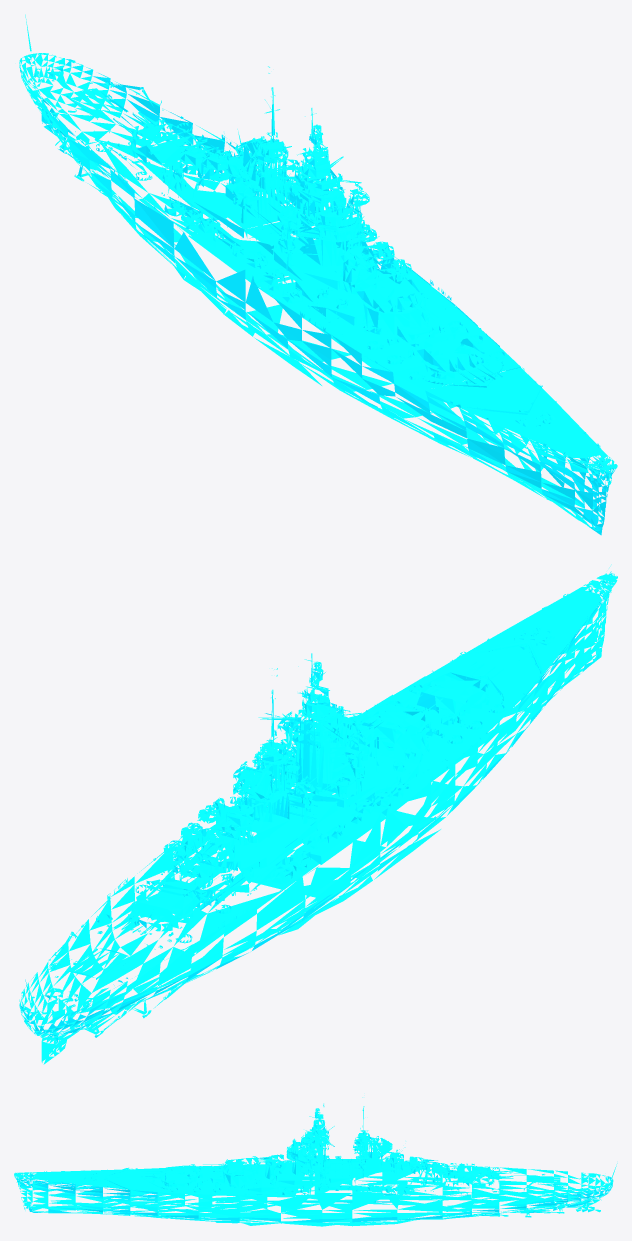
The model's file is PFSB109.glb.
3 renders of one model, top to bottom at view 1: azimuth 30°, elevation 25°; view 2: azimuth 150°, elevation 25°; view 3: azimuth 270°, elevation 25°, orthographic. The views are drawn at different scales.
Visible parts, largest first — view 1: hull_mid, hull_bow, hull_stern, main_battery, secondary_battery, hull_body, aa_mount; view 2: hull_mid, hull_bow, hull_stern, main_battery, secondary_battery, hull_body, aa_mount; view 3: hull_mid, hull_bow, hull_stern, main_battery, secondary_battery, hull_body, aa_mount.
Part boxes in pixels (box(x1,y1,x2,y2)): hull_mid: box(88, 91, 520, 445); hull_bow: box(425, 360, 617, 535); hull_stern: box(19, 14, 192, 198); main_battery: box(113, 111, 502, 384); secondary_battery: box(164, 141, 412, 303); hull_body: box(225, 139, 369, 250); aa_mount: box(169, 166, 416, 309); hull_mid: box(90, 653, 520, 999); hull_bow: box(426, 564, 617, 754); hull_stern: box(19, 919, 192, 1064); main_battery: box(113, 662, 503, 934); secondary_battery: box(163, 717, 411, 884); hull_body: box(226, 684, 369, 827); aa_mount: box(172, 746, 416, 885); hull_mid: box(157, 1103, 511, 1226); hull_bow: box(14, 1167, 167, 1217); hull_stern: box(499, 1163, 617, 1217); main_battery: box(141, 1156, 513, 1183); secondary_battery: box(255, 1154, 456, 1195); hull_body: box(305, 1119, 403, 1174); aa_mount: box(254, 1156, 438, 1191).
Size of the model in its own units: 2.37 by 3.85 by 17.8.
